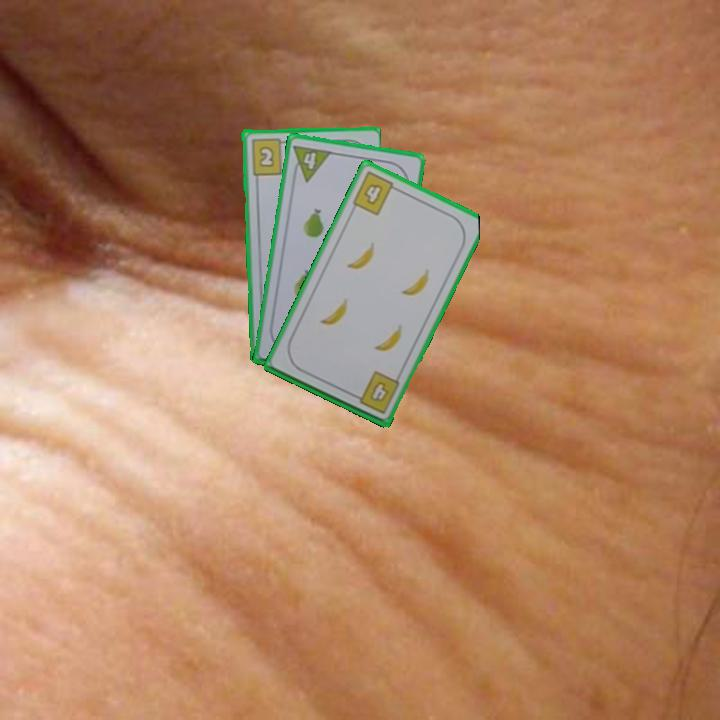2b: (248, 134, 290, 177)
4b: (349, 168, 402, 218), (349, 367, 402, 417)
4p: (289, 142, 334, 184)
